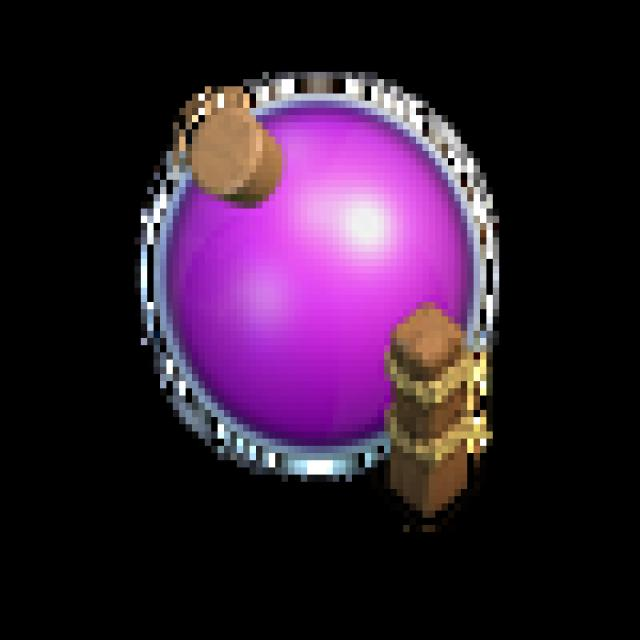elixir_storage: (129, 64, 539, 538)
